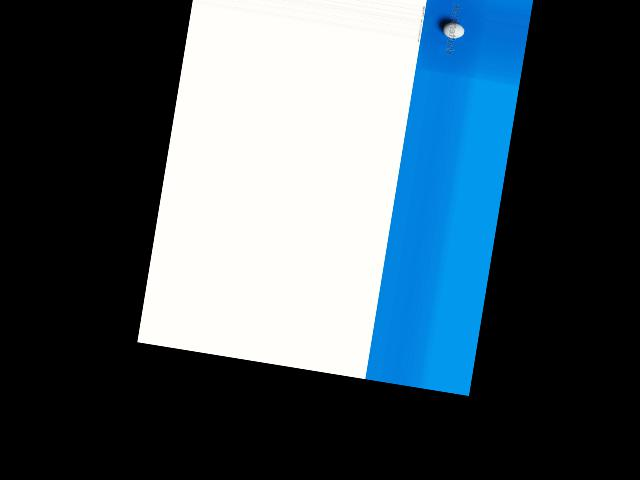egg: (441, 20, 466, 39)
